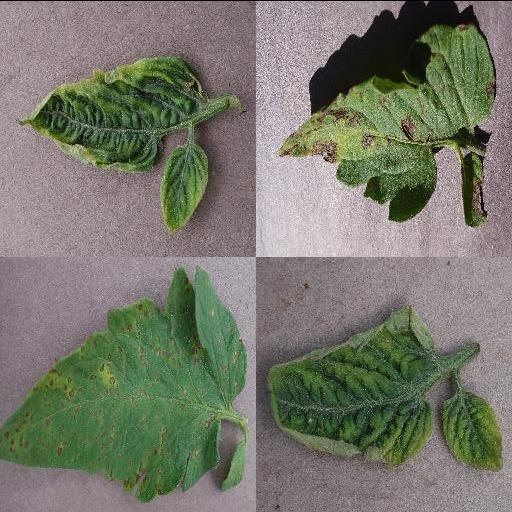Early Blight: (277, 23, 499, 221)
Septoria: (0, 266, 248, 500)
Yellow Leaf Curl Virus: (265, 304, 437, 468), (17, 55, 207, 170), (440, 390, 502, 470), (158, 140, 208, 231)
